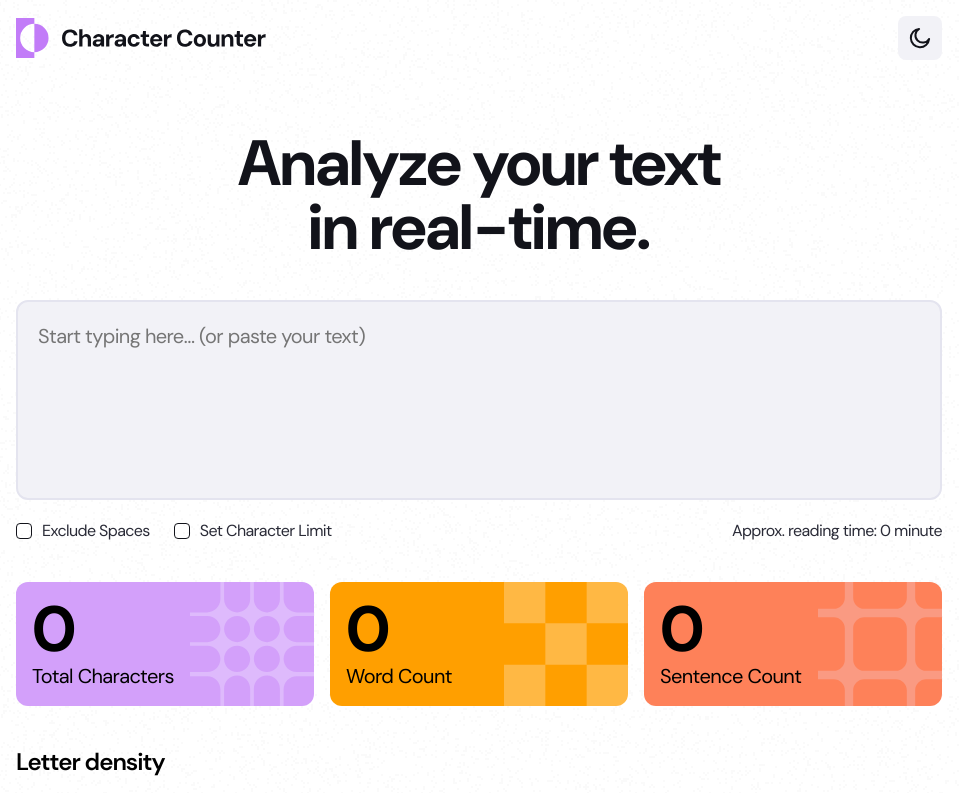
Test: App › should toggle exclude spaces correctly
Click the checkbox labelled "Exclude Spaces" at (24, 531), box [16,523,32,539]
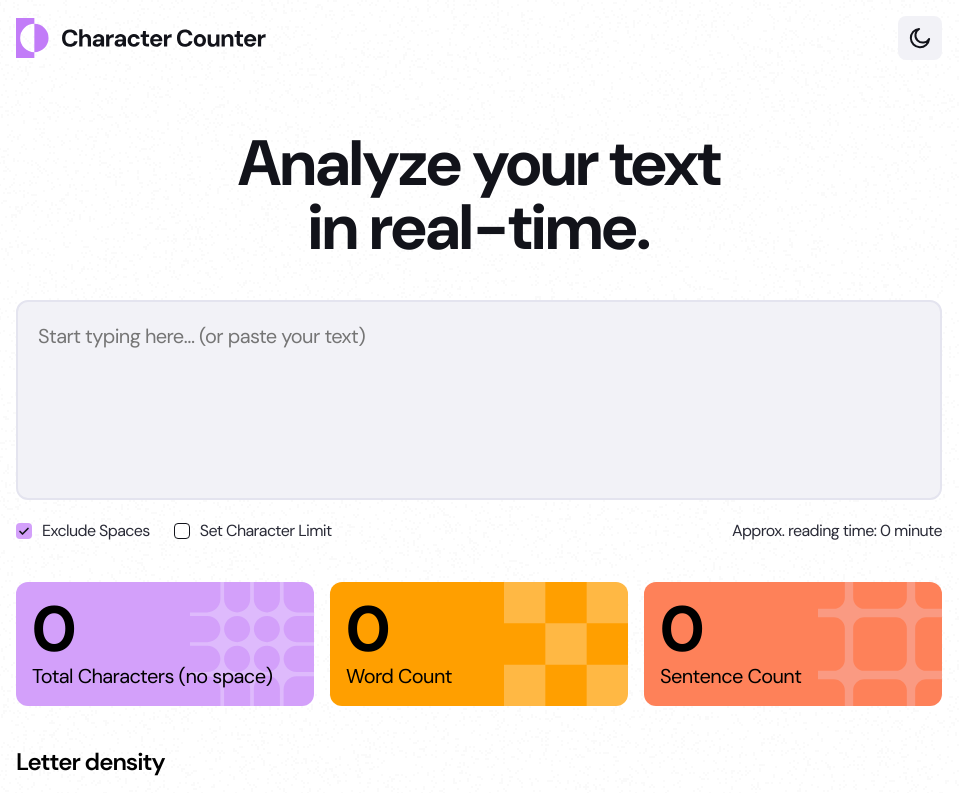
Check: the text "Total Characters (no space)" is shown, box [32,662,298,690]
